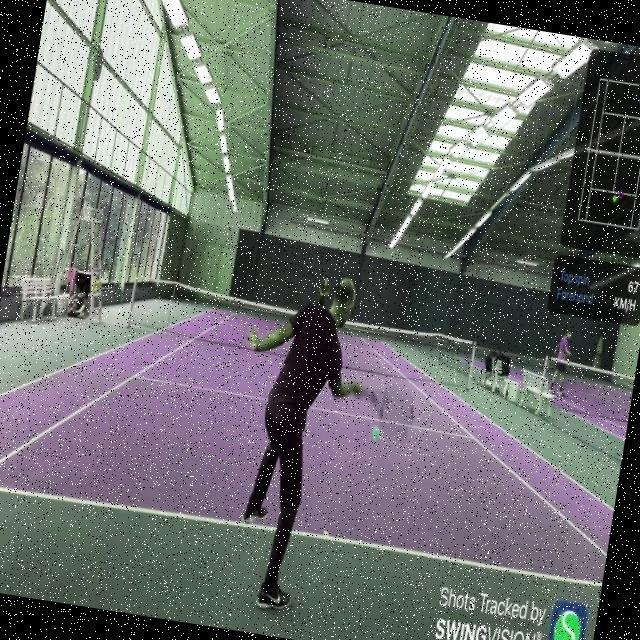court: (0, 275, 635, 588)
net: (124, 270, 482, 384)
player: (202, 264, 434, 629)
